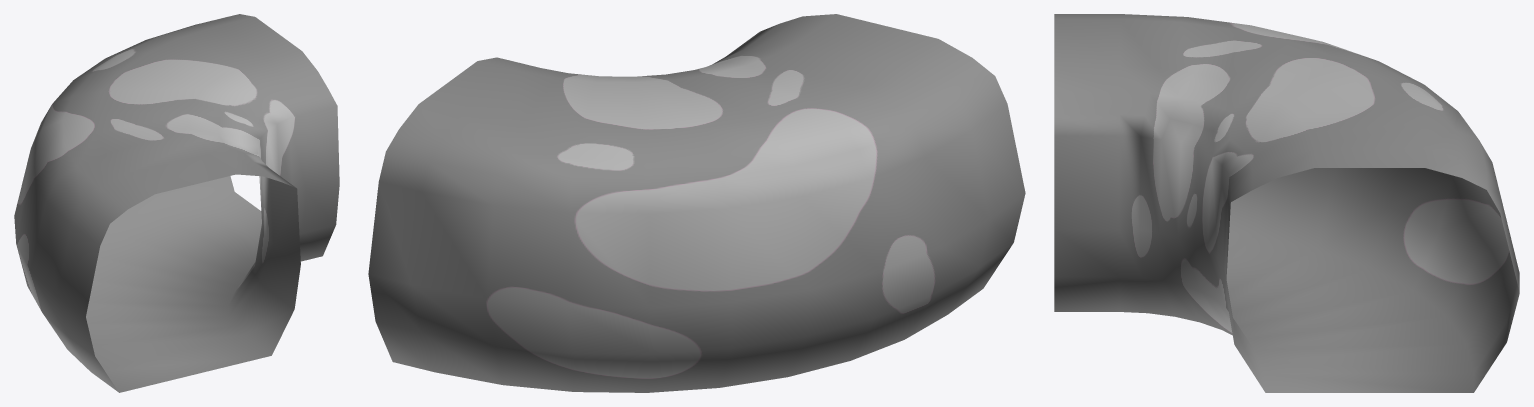
Rendered from mijin mas oj teqat (1).fbx.
The picture shows the model from 3 angles, left to right: view 1: azimuth 30°, elevation 25°; view 2: azimuth 150°, elevation 25°; view 3: azimuth 270°, elevation 25°; orthographic projection. The views are drawn at different scales.
Parts seen in each view (by area): view 1: pCube1.005; view 2: pCube1.005; view 3: pCube1.005.
Boxes of the visible parts, bbox=[...] form: pCube1.005: bbox=[14, 14, 339, 392]; pCube1.005: bbox=[368, 14, 1025, 392]; pCube1.005: bbox=[1054, 14, 1519, 392].
Bounding box in the file's own units: 9725 × 5410 × 10148.
